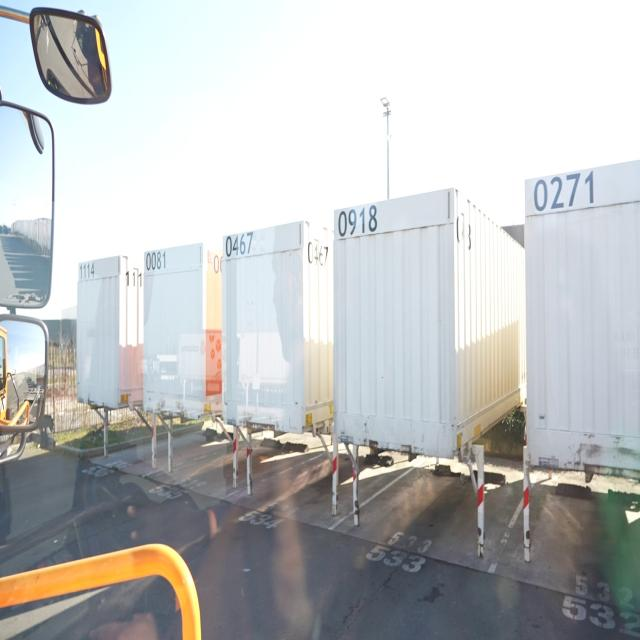Code: (530, 160, 598, 219), (337, 200, 379, 244), (223, 228, 255, 260), (143, 246, 172, 276), (76, 258, 97, 282)
